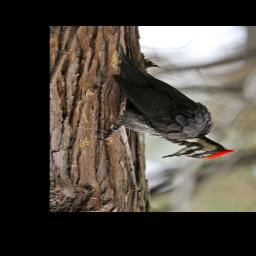Woodpecker: (98, 45, 237, 159)
